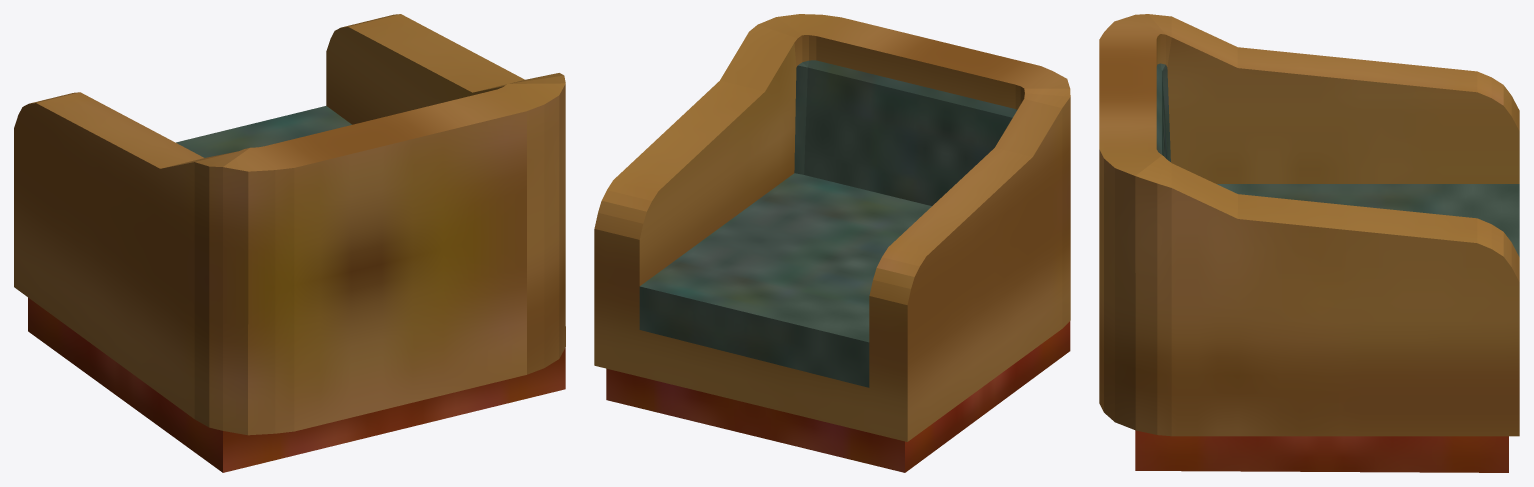
File: cadeira1.fbx
3 renders of one model, left to right at view 1: azimuth 30°, elevation 25°; view 2: azimuth 150°, elevation 25°; view 3: azimuth 270°, elevation 25°, orthographic. The views are drawn at different scales.
Parts seen in each view (by area): view 1: cadeira1; view 2: cadeira1; view 3: cadeira1.
Boxes of the visible parts, <box> form: cadeira1: <box>14,14,565,472</box>; cadeira1: <box>594,14,1070,472</box>; cadeira1: <box>1099,14,1519,472</box>.
Bounding box in the file's own units: 170 × 136 × 175.
Materials: 1 (1 with a texture image).
